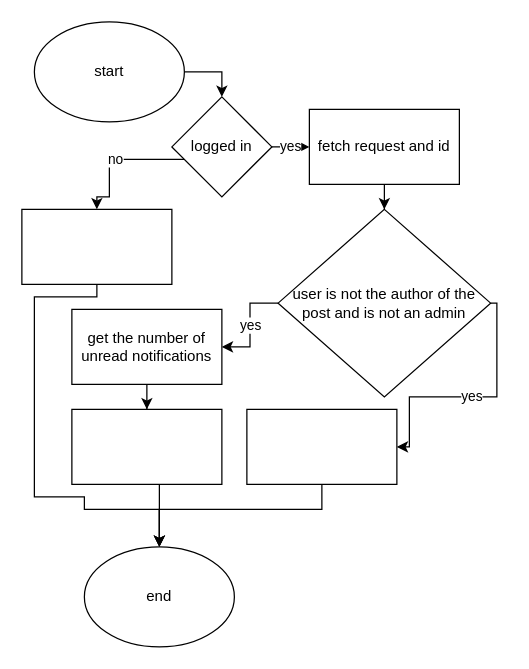
The diagram is 529 pixels wide and 669 high, and some of its shapes have lost their labels. Each missing label, with the centre of its shape:
redirect to blogs page: (321,446)
redirect to login page: (96,246)
render delete confirm page: (146,446)
